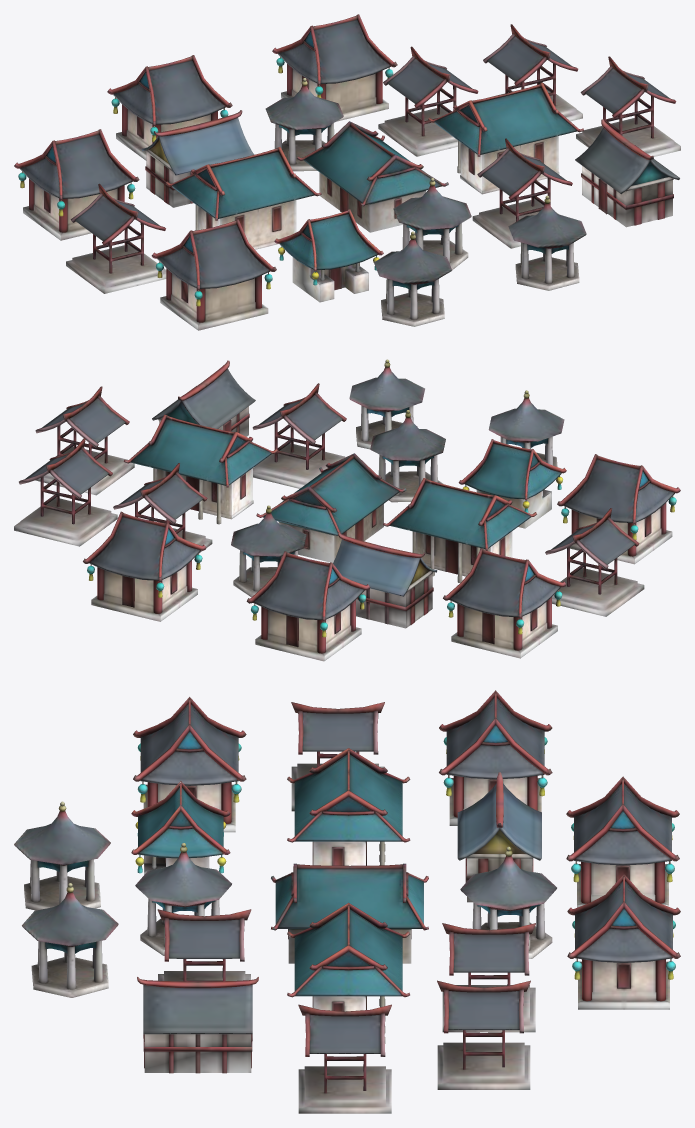
The model's file is city_chinese_1.glb.
3 renders of one model, top to bottom at view 1: azimuth 30°, elevation 25°; view 2: azimuth 150°, elevation 25°; view 3: azimuth 270°, elevation 25°, orthographic. The views are drawn at different scales.
Visible parts, largest first — view 1: low.095, low.109, low.087, low.084, low.105, low.106, low.111, low.099, low.098, low.110, low.100, low.112 (+7 smaller); view 2: low.106, low.105, low.111, low.109, low.084, low.087, low.095, low.100, low.116, low.110, low.102, low.098 (+7 smaller); view 3: low.105, low.099, low.109, low.111, low.084, low.106, low.087, low.095, low.116, low.097, low.113, low.115 (+7 smaller).
Part boxes in pixels (x1=…): low.095: x1=151, y1=219, x2=276, y2=330; low.109: x1=165, y1=147, x2=321, y2=249; low.087: x1=297, y1=121, x2=448, y2=232; low.084: x1=428, y1=83, x2=583, y2=194; low.105: x1=272, y1=14, x2=397, y2=121; low.106: x1=14, y1=129, x2=139, y2=240; low.111: x1=107, y1=55, x2=232, y2=160; low.099: x1=575, y1=119, x2=679, y2=227; low.098: x1=274, y1=209, x2=383, y2=302; low.110: x1=66, y1=183, x2=166, y2=293; low.100: x1=141, y1=110, x2=254, y2=207; low.112: x1=378, y1=46, x2=478, y2=156; low.106: x1=443, y1=548, x2=566, y2=658; low.105: x1=83, y1=511, x2=206, y2=621; low.111: x1=246, y1=551, x2=370, y2=661; low.109: x1=383, y1=478, x2=536, y2=582; low.084: x1=123, y1=414, x2=277, y2=524; low.087: x1=256, y1=453, x2=406, y2=562; low.095: x1=557, y1=454, x2=680, y2=564; low.100: x1=333, y1=532, x2=437, y2=628; low.116: x1=14, y1=437, x2=117, y2=546; low.110: x1=545, y1=508, x2=644, y2=616; low.102: x1=252, y1=383, x2=346, y2=488; low.098: x1=458, y1=439, x2=566, y2=528; low.105: x1=567, y1=874, x2=680, y2=1009; low.099: x1=137, y1=977, x2=258, y2=1073; low.109: x1=287, y1=748, x2=410, y2=865; low.111: x1=566, y1=776, x2=679, y2=907; low.084: x1=287, y1=902, x2=410, y2=1043; low.106: x1=439, y1=690, x2=552, y2=825; low.087: x1=271, y1=863, x2=428, y2=963; low.095: x1=133, y1=697, x2=246, y2=832; low.116: x1=437, y1=980, x2=530, y2=1089; low.097: x1=298, y1=1004, x2=391, y2=1113; low.113: x1=22, y1=883, x2=118, y2=997; low.115: x1=14, y1=801, x2=110, y2=910.
Size of the model in its own units: 31.72 by 4.49 by 26.16.
Materials: 3 (3 with a texture image).
